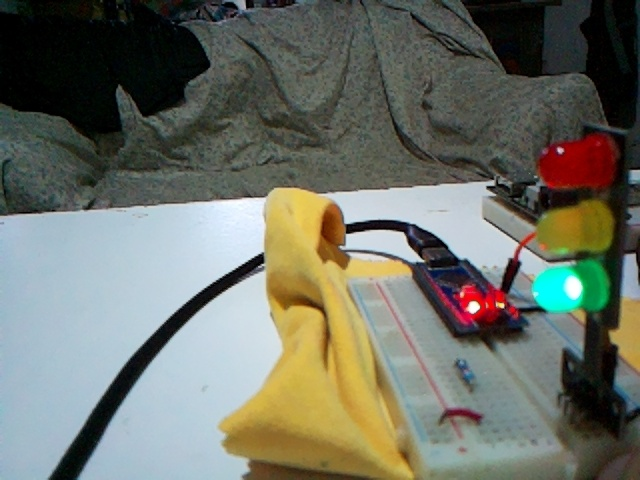traffic_light_green: (528, 123, 627, 420)
